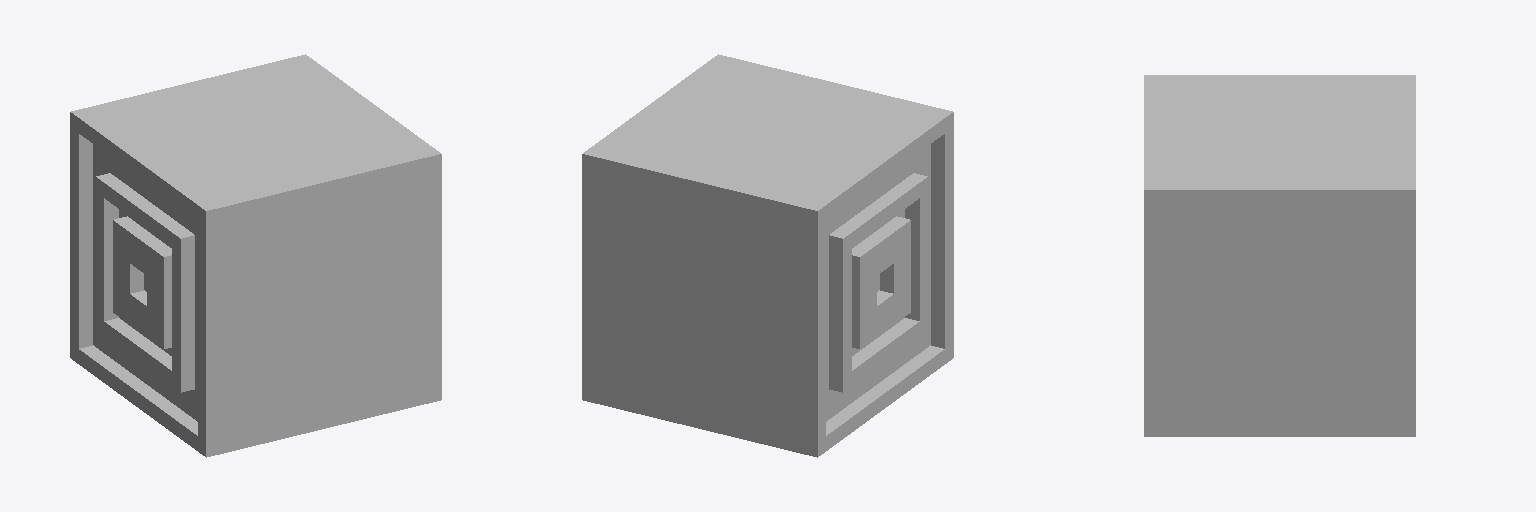
File: wall7.obj
The picture shows the model from 3 angles: view 1: azimuth 30°, elevation 25°; view 2: azimuth 150°, elevation 25°; view 3: azimuth 270°, elevation 25°; orthographic projection.
Size of the model in its own units: 16 by 16 by 16.